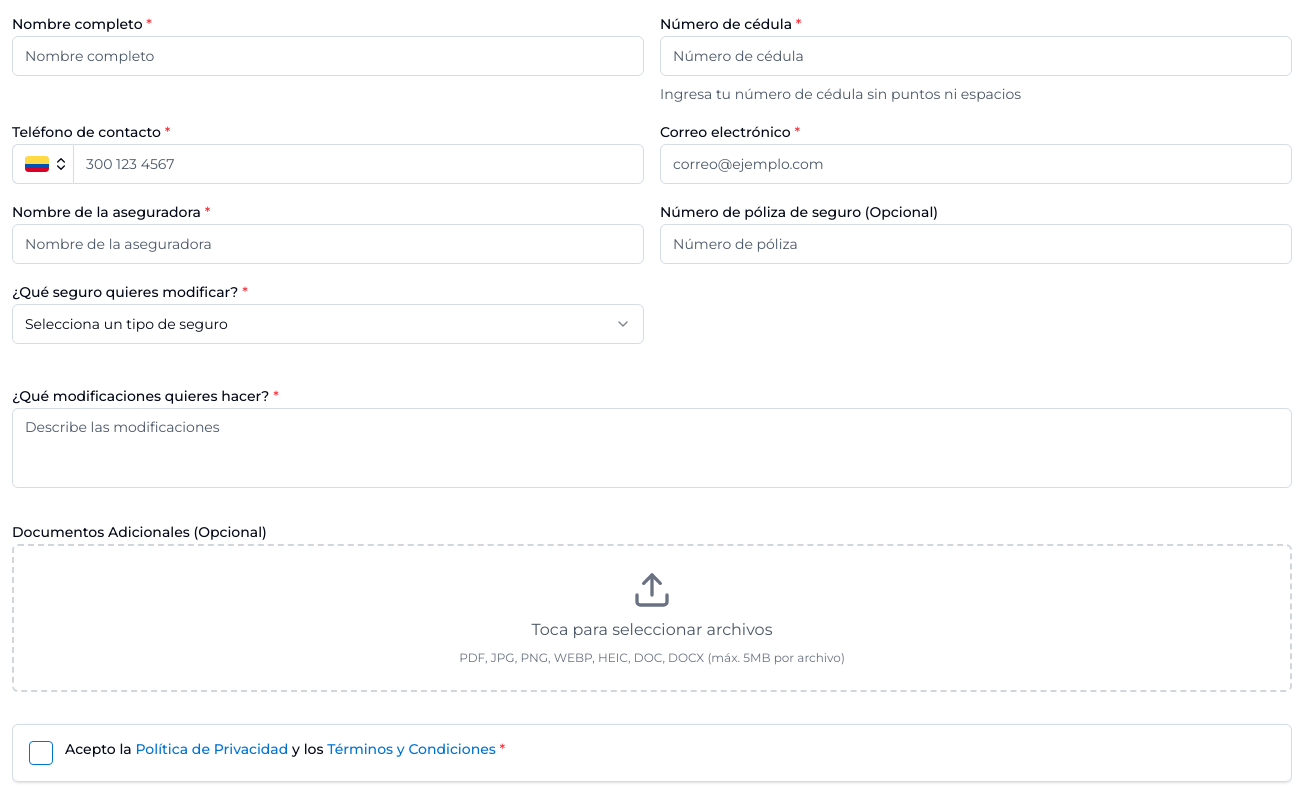
Test: ModificationForm › Form Validation › does not validate a field when the user leaves it
Click the field labelled "Nombre completo *" at [328, 56], box left=12, top=36, right=644, bottom=76
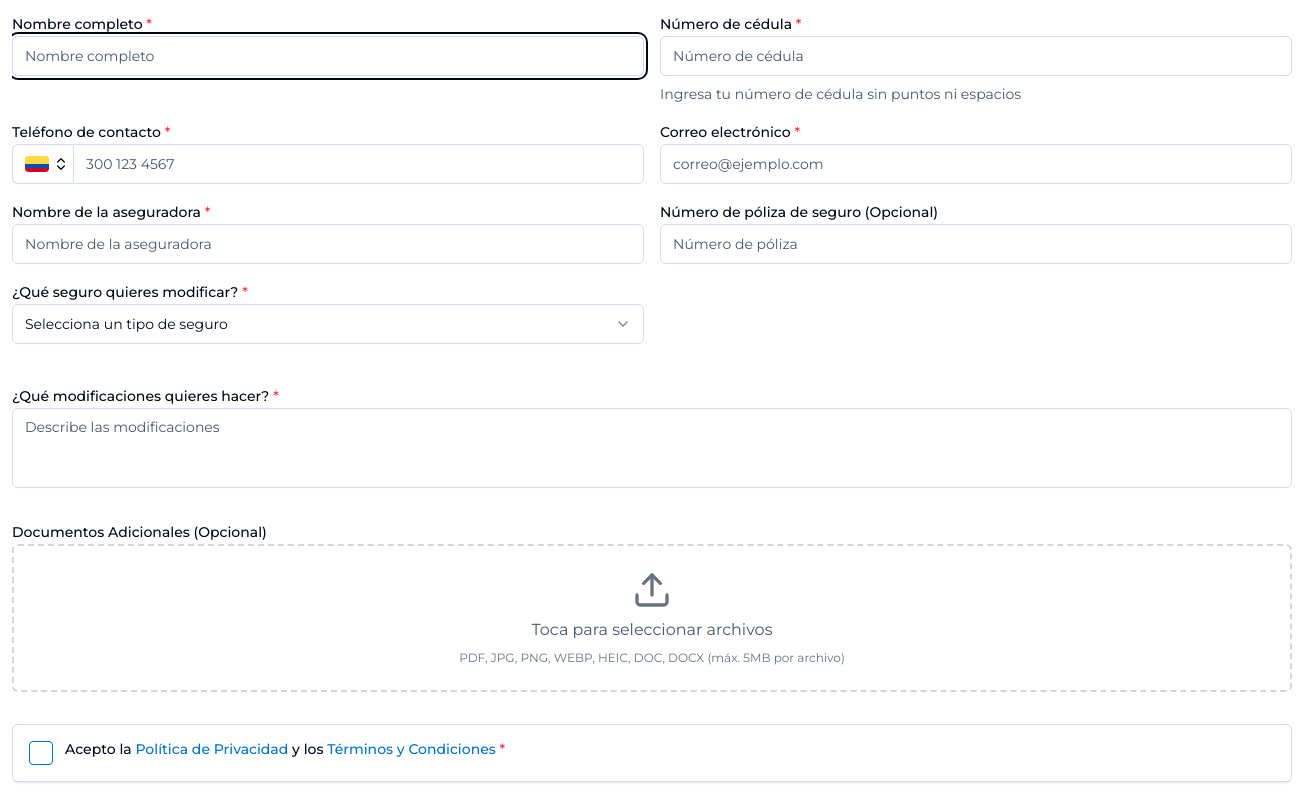
Press Tab
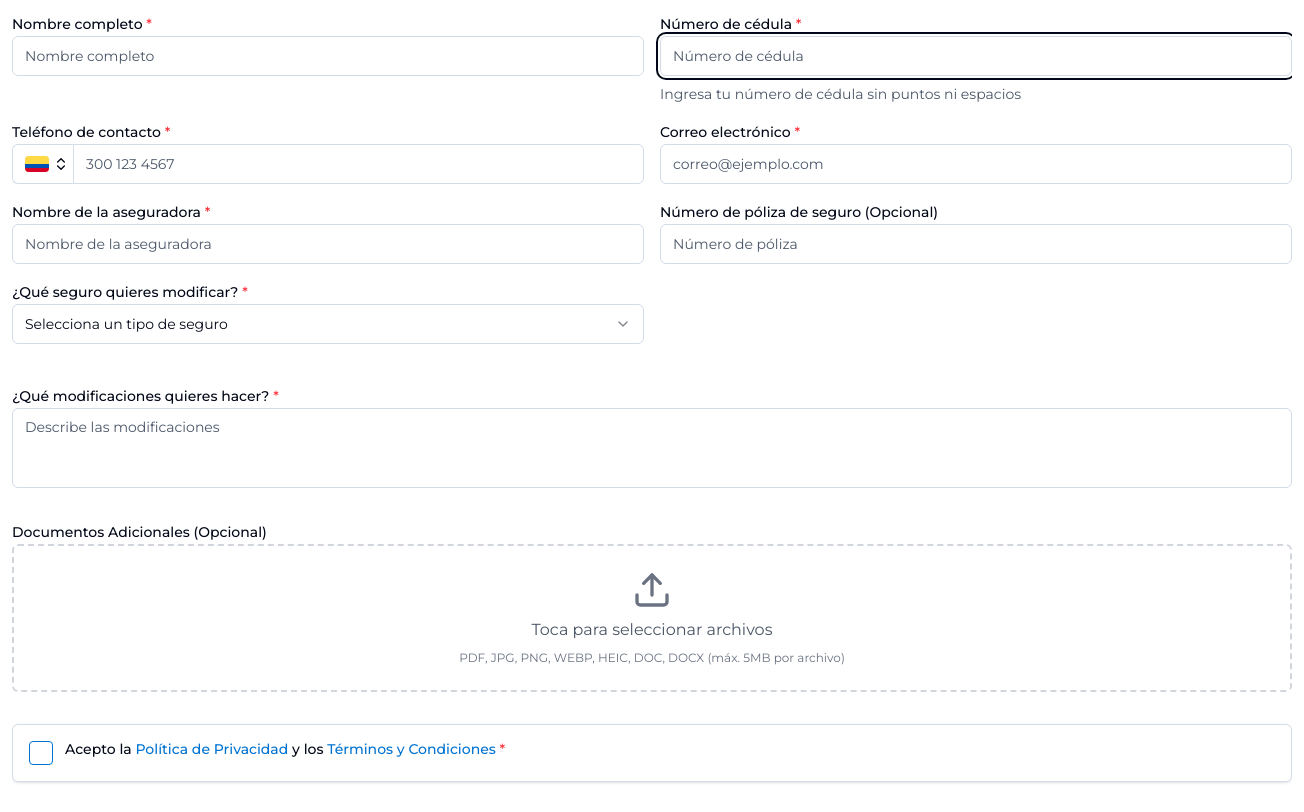
Click the field labelled "Correo electrónico *" at [976, 164], box left=660, top=144, right=1292, bottom=184
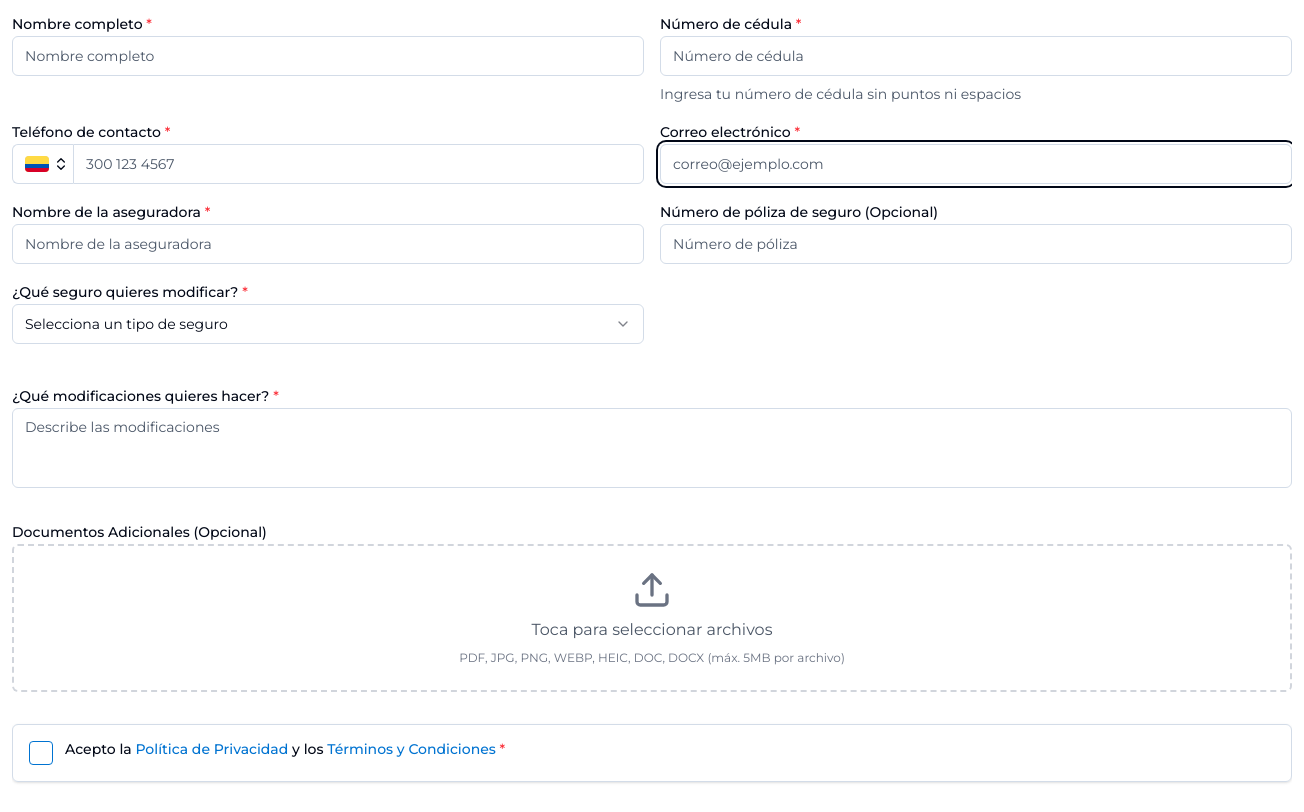
Type keys "maria@example"
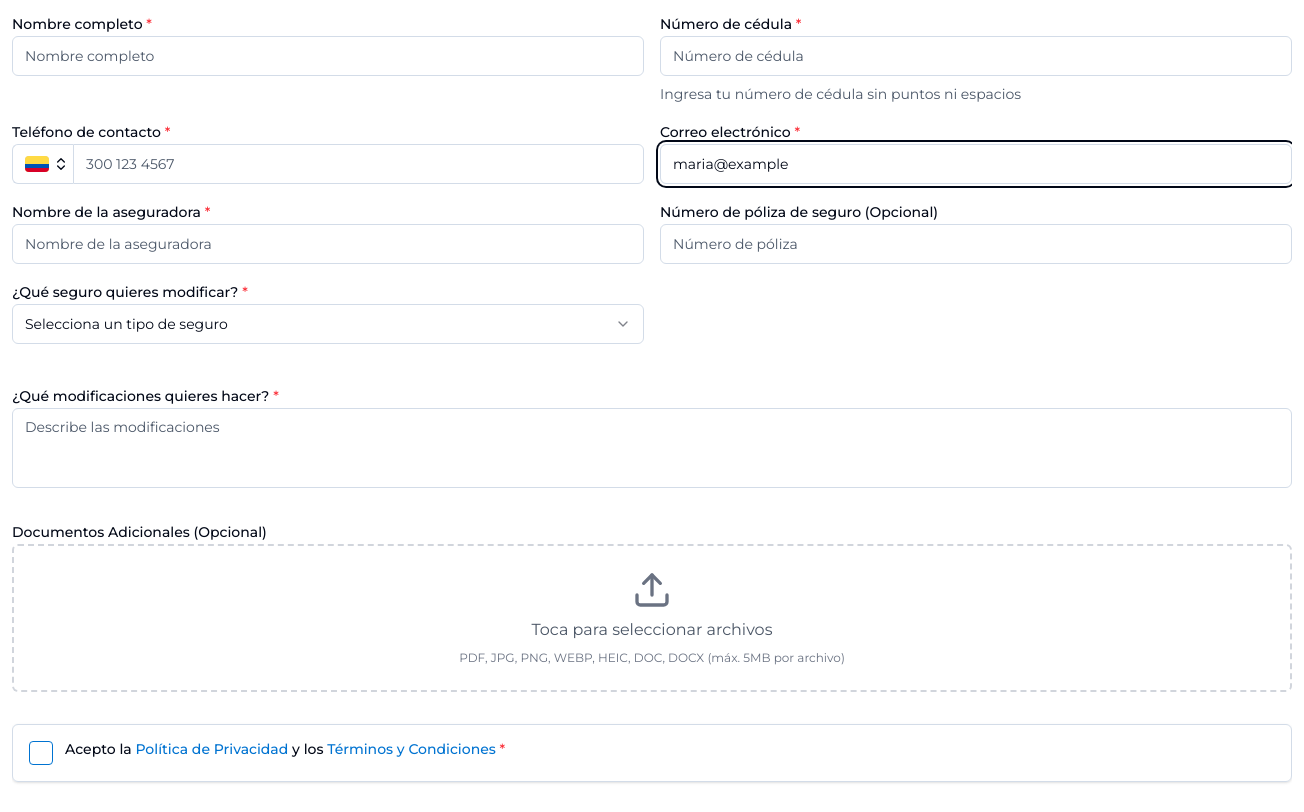
Press Tab
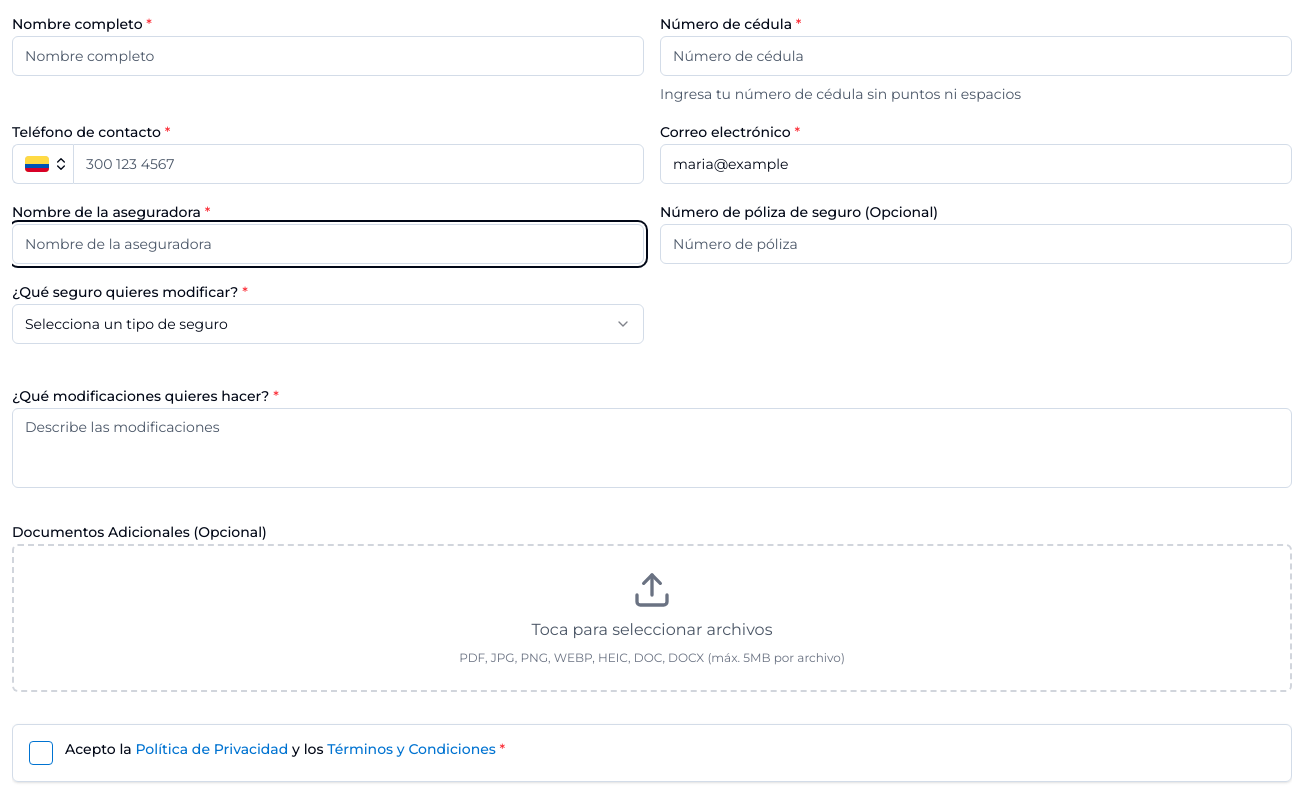
// Gives a blur validation time to show up before checking it didn't
Type keys "Test Insurance"
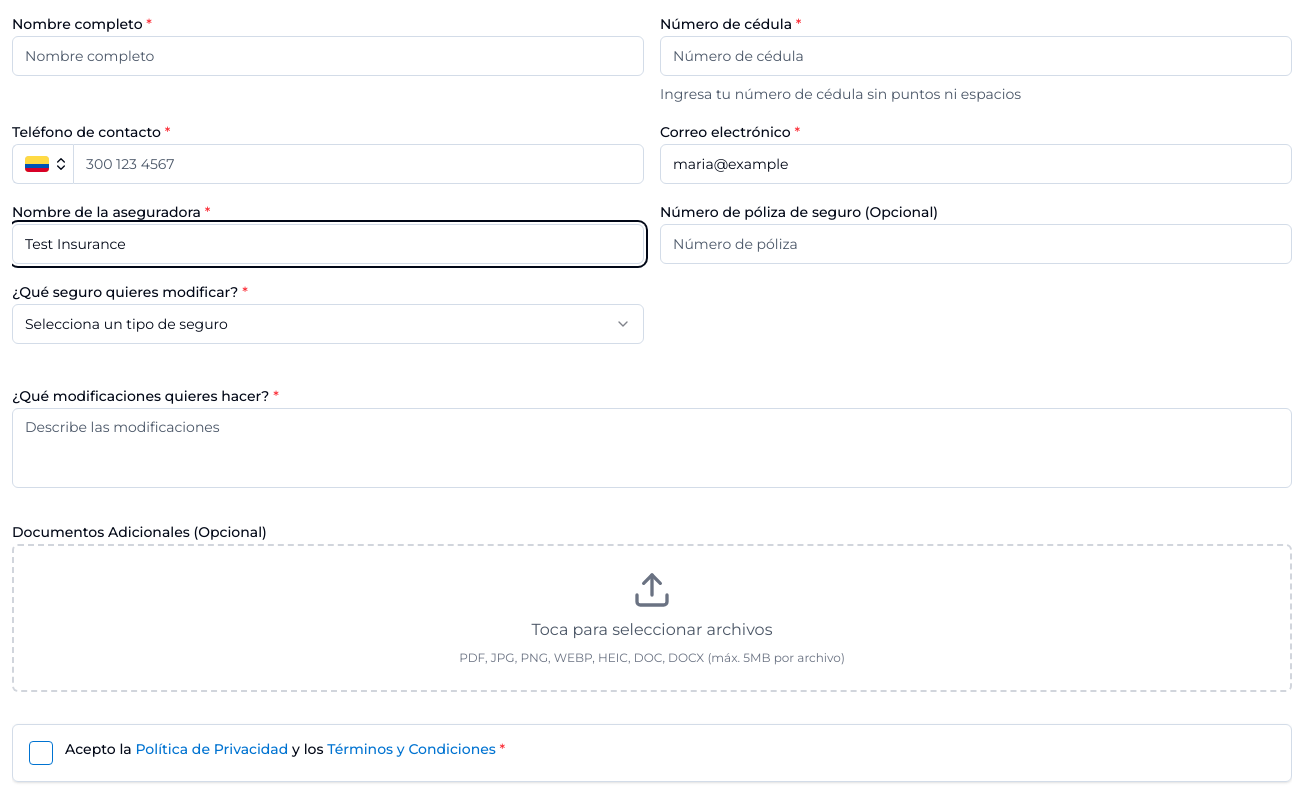
Result: the field labelled "Nombre de la aseguradora *" holds "Test Insurance" at left=12, top=224, right=644, bottom=264
